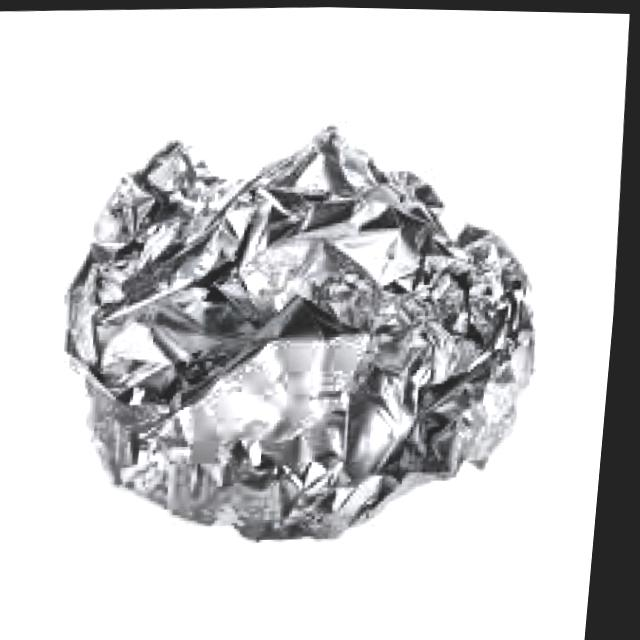Foil: (49, 118, 599, 548)
